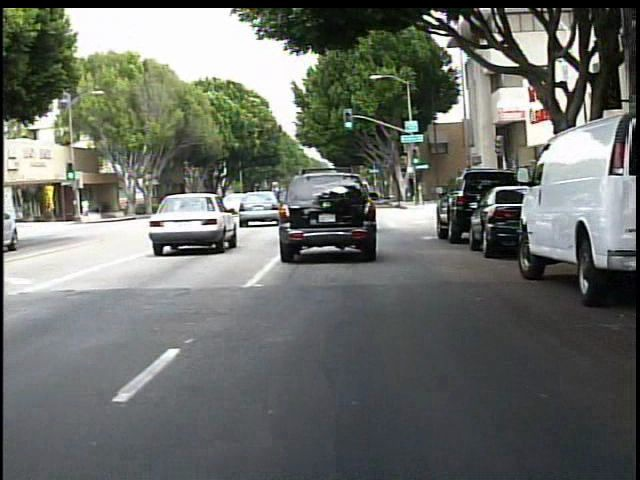person: (82, 193, 95, 221)
